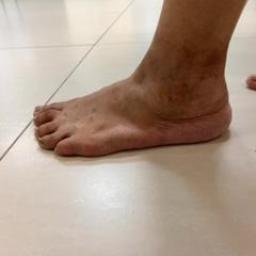Lateral View -Left Foot-: (13, 40, 245, 170)
